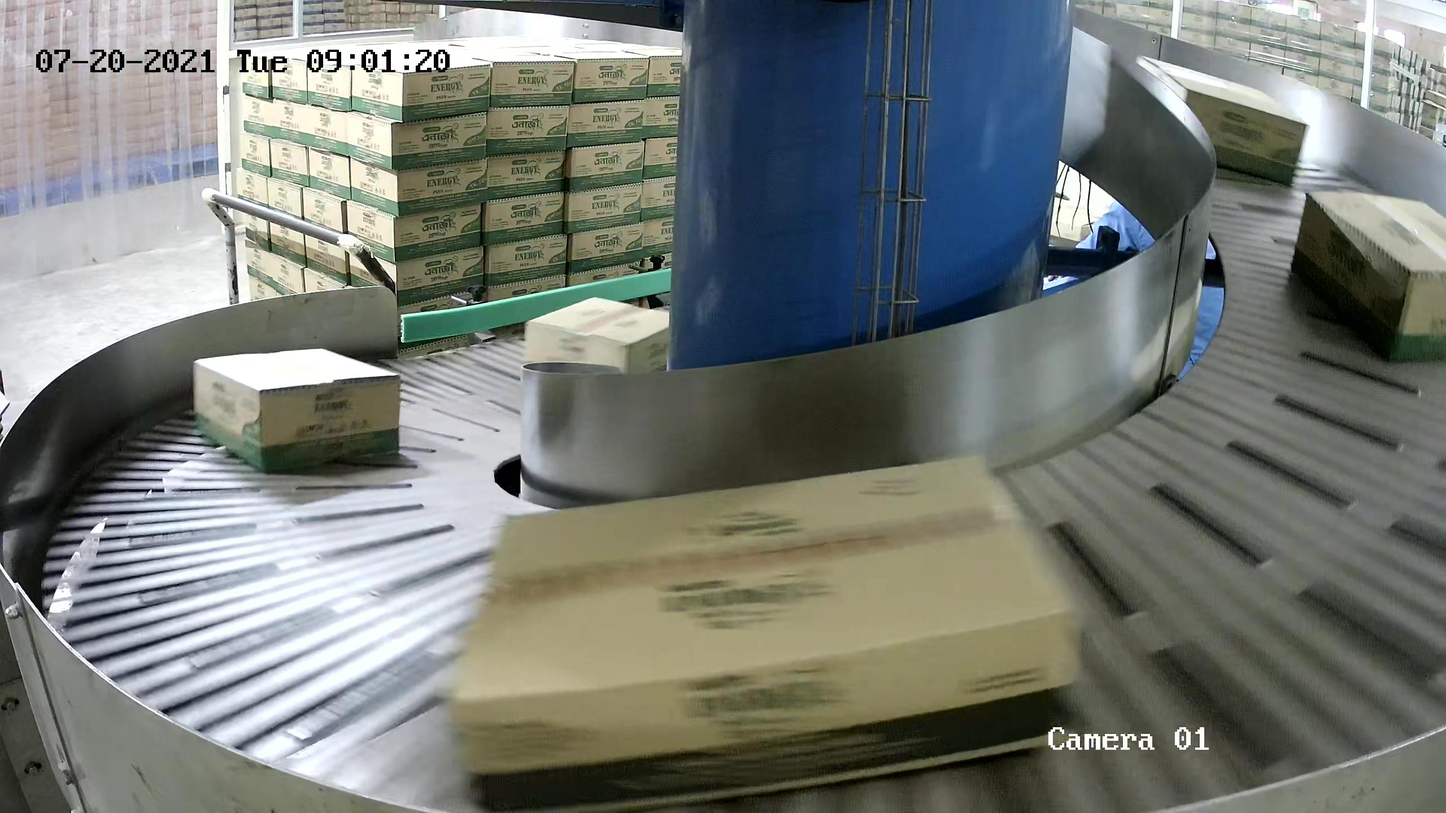Box: (446, 451, 1083, 813), (1290, 190, 1446, 362), (192, 347, 402, 473), (1134, 54, 1310, 186), (523, 295, 669, 372)
